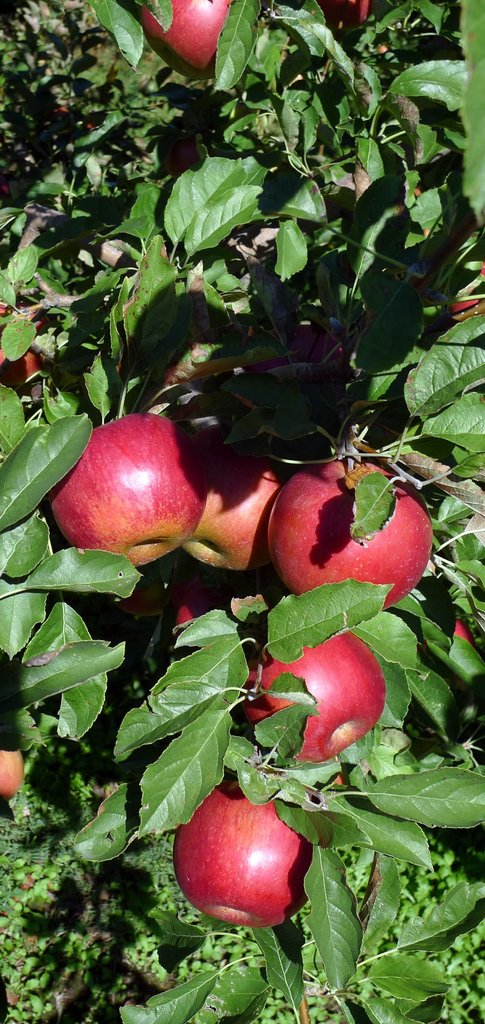Apple: (257, 452, 437, 600), (44, 419, 216, 566), (171, 792, 310, 935), (241, 631, 385, 762), (178, 454, 283, 578), (129, 0, 232, 71), (0, 743, 26, 798)
